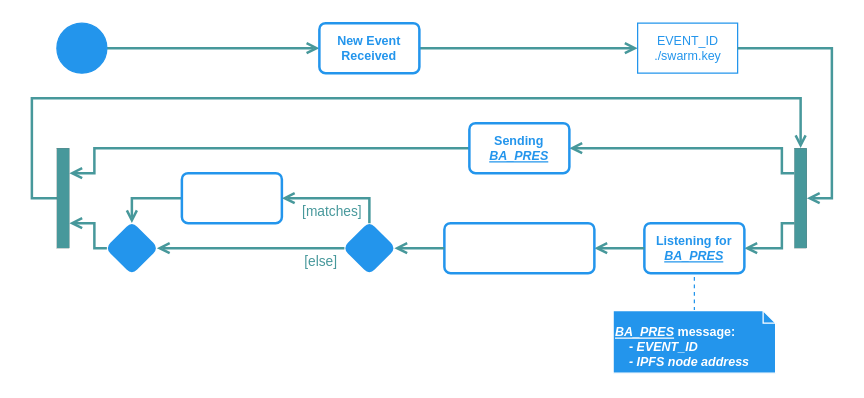
Image size: 864x398. Some labels were removed from this diagram. The centre of each missing label's shape, as x and y in pixels:
"Add to known bootstrap addresses" belongs at (x=231, y=197).
"Receives BA_PRES and verifies EVENT_ID" belongs at (x=518, y=247).
